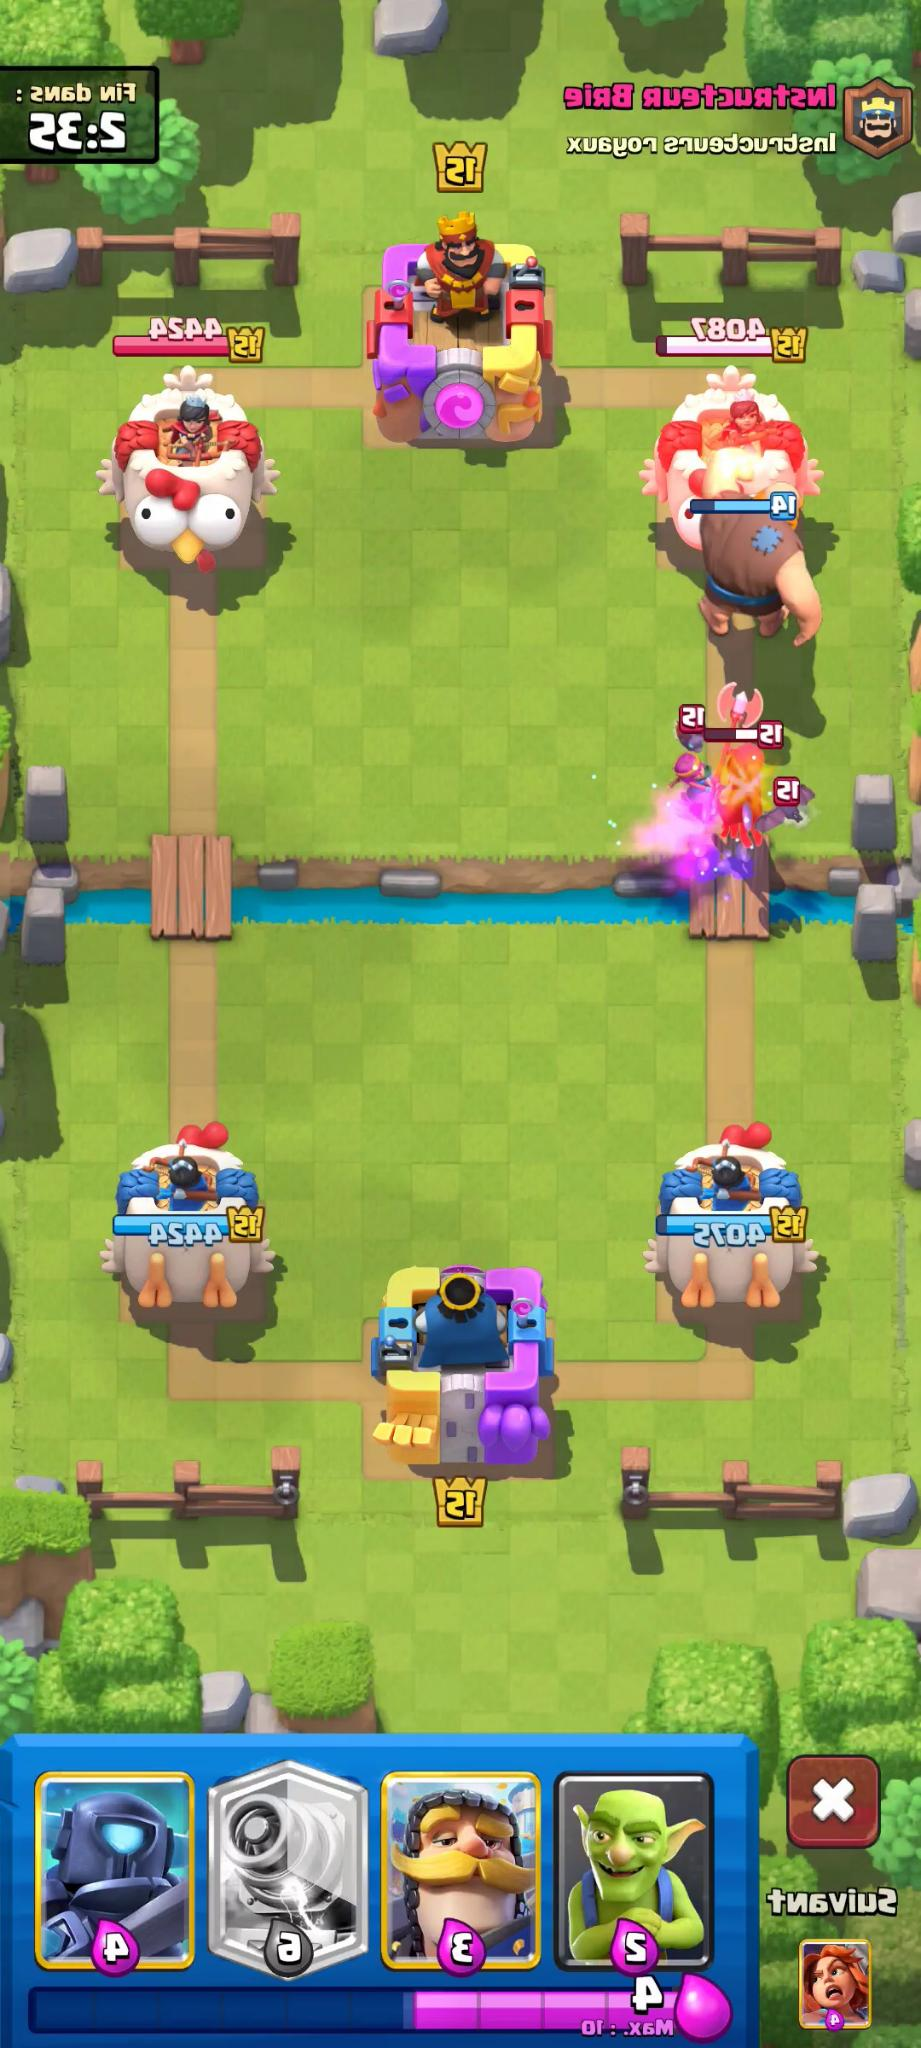archere: (660, 756, 728, 837)
bat: (752, 777, 818, 839), (664, 705, 715, 755)
geant: (666, 483, 828, 667)
